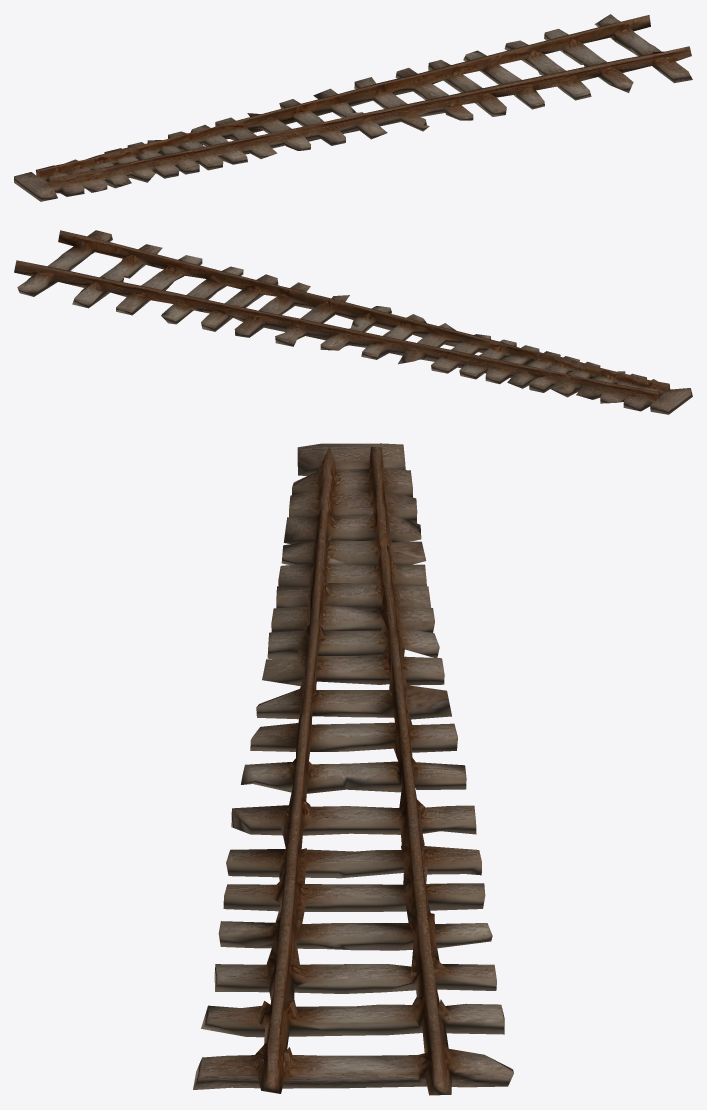
Rendered from mine_rail.bfbe029f54.glb.
3 renders of one model, top to bottom at view 1: azimuth 30°, elevation 25°; view 2: azimuth 150°, elevation 25°; view 3: azimuth 270°, elevation 25°, orthographic. The views are drawn at different scales.
Visible parts, largest first — view 1: mine_rail; view 2: mine_rail; view 3: mine_rail.
Boxes of the visible parts, x1,y1,x2,y2 form: mine_rail: (14, 14, 692, 201); mine_rail: (14, 230, 692, 414); mine_rail: (193, 443, 513, 1095).
Size of the model in its own units: 6 by 0.2234 by 1.3.
Materials: 1 (1 with a texture image).
